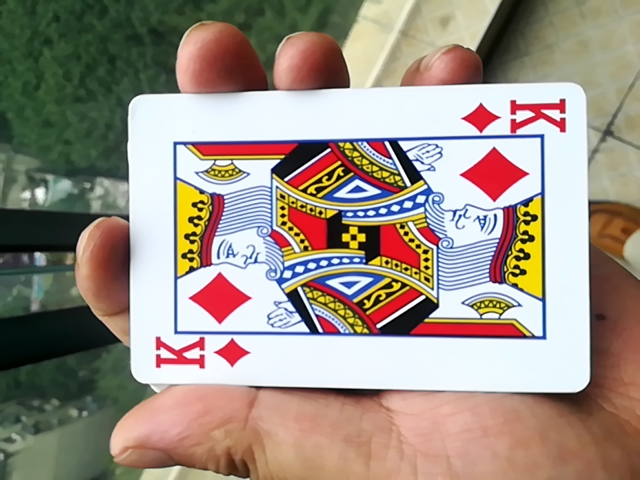fk k: (117, 86, 584, 399)
